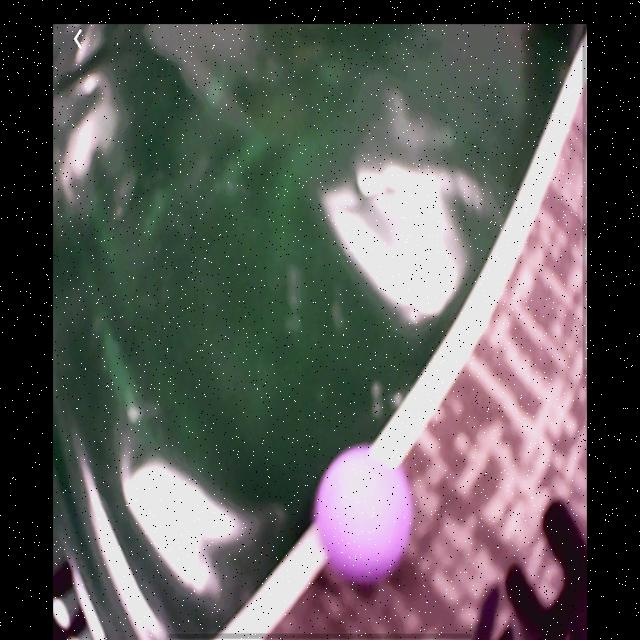ball: (316, 452, 412, 584)
